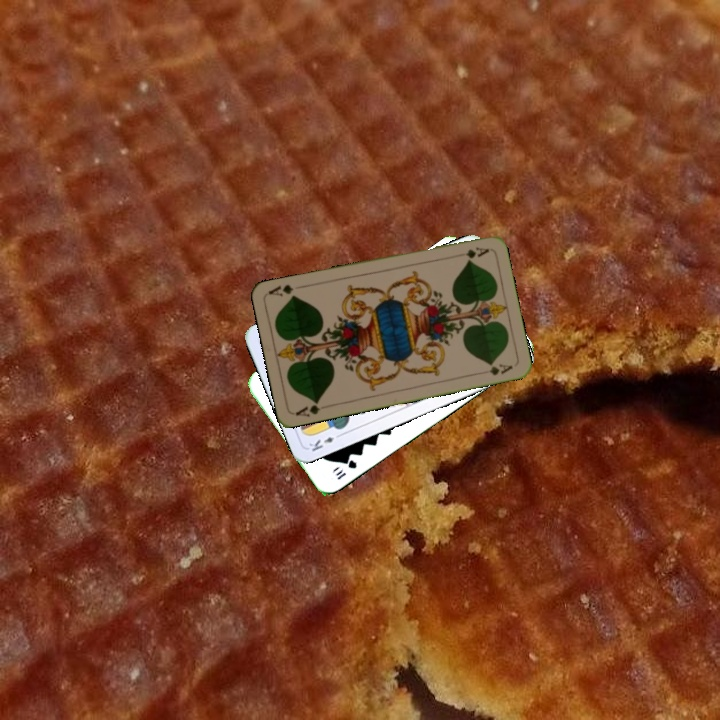EK: (305, 429, 345, 454)
G10: (330, 455, 359, 482)
GA: (291, 396, 323, 419), (462, 243, 491, 261)
